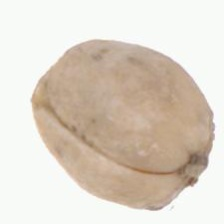L1: (172, 138, 213, 203), (26, 49, 57, 113)
L2: (30, 39, 216, 211)
